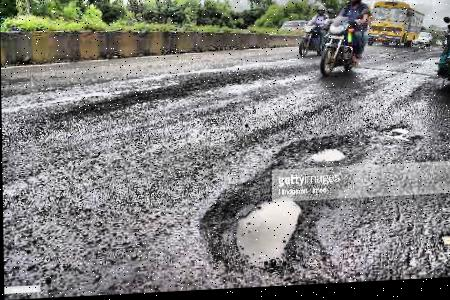pothole: (196, 179, 334, 291), (269, 134, 359, 172), (378, 126, 415, 150)
